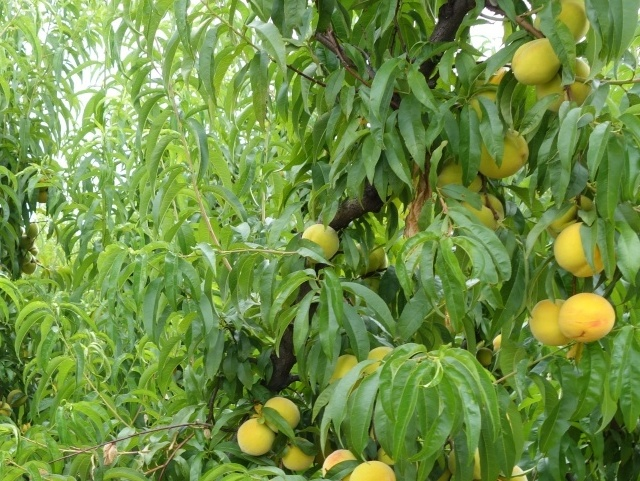peach: (553, 219, 615, 282), (557, 289, 620, 347), (537, 56, 599, 111), (510, 31, 565, 91), (525, 292, 581, 349), (478, 127, 533, 183), (536, 1, 596, 48), (440, 156, 485, 204), (467, 186, 510, 232), (233, 415, 282, 455), (299, 220, 340, 261), (261, 392, 304, 430), (361, 341, 401, 381), (319, 447, 364, 481), (279, 434, 318, 473), (328, 349, 366, 388), (347, 457, 400, 481)
